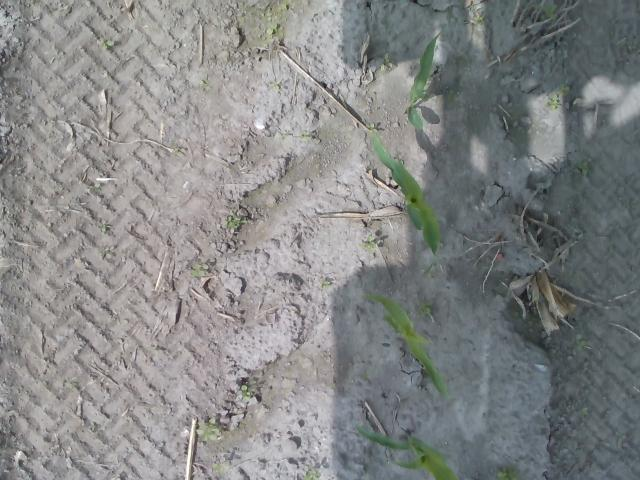Maize: (357, 290, 452, 403), (368, 129, 441, 257), (354, 424, 459, 480), (404, 32, 442, 138)
Weeds: (548, 83, 570, 109), (198, 419, 220, 442), (266, 10, 284, 36), (415, 300, 432, 318), (574, 334, 590, 352), (496, 467, 518, 480), (193, 262, 210, 278), (380, 56, 394, 72), (576, 161, 591, 175), (302, 470, 321, 480), (361, 238, 376, 250), (240, 384, 250, 401), (212, 462, 227, 473), (543, 4, 557, 15), (96, 223, 108, 235), (98, 247, 112, 257), (100, 40, 114, 50), (224, 216, 236, 226), (301, 130, 311, 141), (476, 14, 484, 24), (270, 82, 278, 90)
